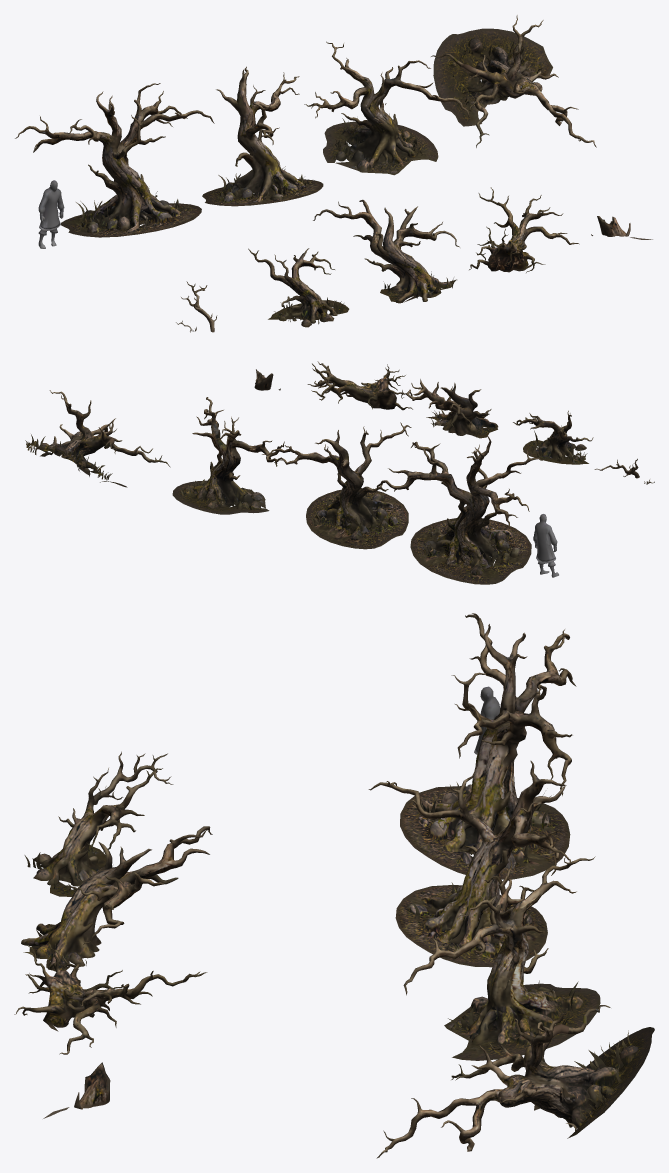
Rendered from asset_11_dead_tree_sheet.glb.
3 views of the same model, one above another, from view 1: azimuth 30°, elevation 25°; view 2: azimuth 150°, elevation 25°; view 3: azimuth 270°, elevation 25° (orthographic). The views are drawn at different scales.
Visible parts, largest first — view 1: tripo_8604321d_837a_48f6_a422_828c39bebd85; view 2: tripo_8604321d_837a_48f6_a422_828c39bebd85; view 3: tripo_8604321d_837a_48f6_a422_828c39bebd85.
Part boxes in pixels (box(x1,y1,x2,y2)): tripo_8604321d_837a_48f6_a422_828c39bebd85: box(15, 15, 652, 332); tripo_8604321d_837a_48f6_a422_828c39bebd85: box(25, 361, 654, 584); tripo_8604321d_837a_48f6_a422_828c39bebd85: box(14, 613, 654, 1158).
Bounding box in the file's own units: 0.9995 × 0.2427 × 0.6724.
1 material, 1 textured.
